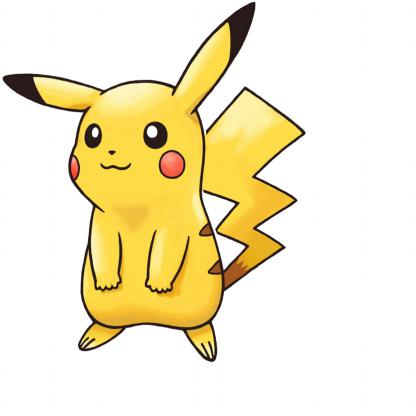Pikachu: (1, 1, 317, 377)
